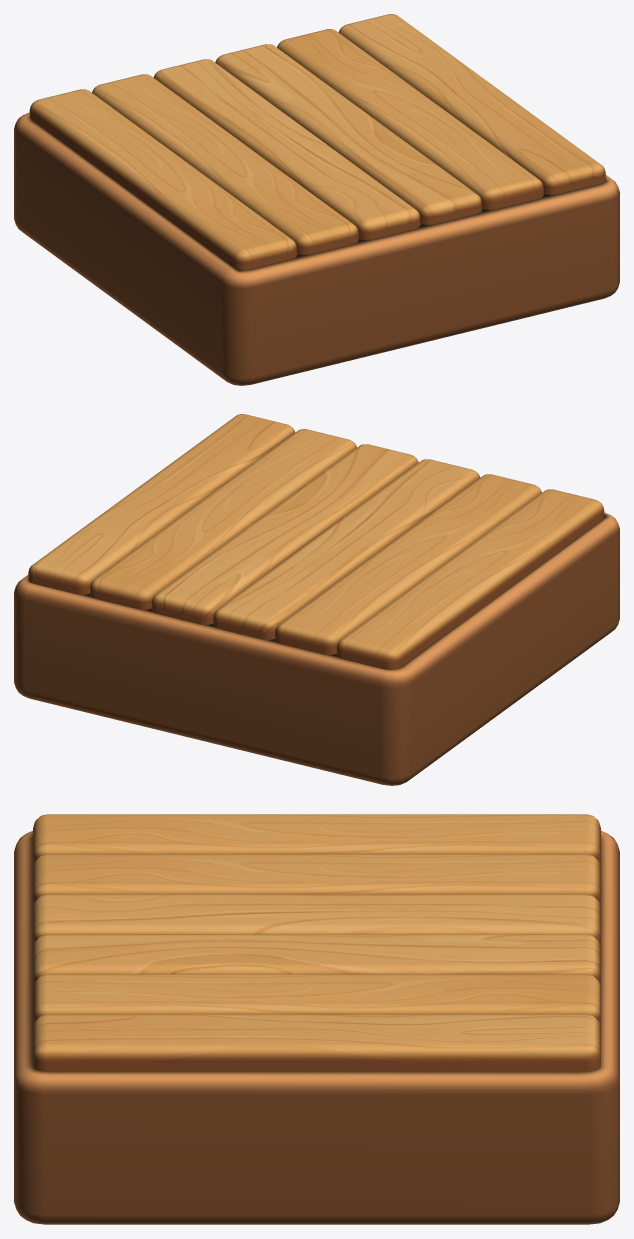
File: WoodenBox_3x3.fbx
3 views of the same model, one above another, from view 1: azimuth 30°, elevation 25°; view 2: azimuth 150°, elevation 25°; view 3: azimuth 270°, elevation 25° (orthographic). The views are drawn at different scales.
Visible parts, largest first — view 1: box3x3; view 2: box3x3; view 3: box3x3.
Boxes of the visible parts, <box> form: box3x3: <box>14,14,619,385</box>; box3x3: <box>14,414,619,785</box>; box3x3: <box>14,814,619,1224</box>.
Size of the model in its own units: 3.04 by 0.9589 by 3.04.
